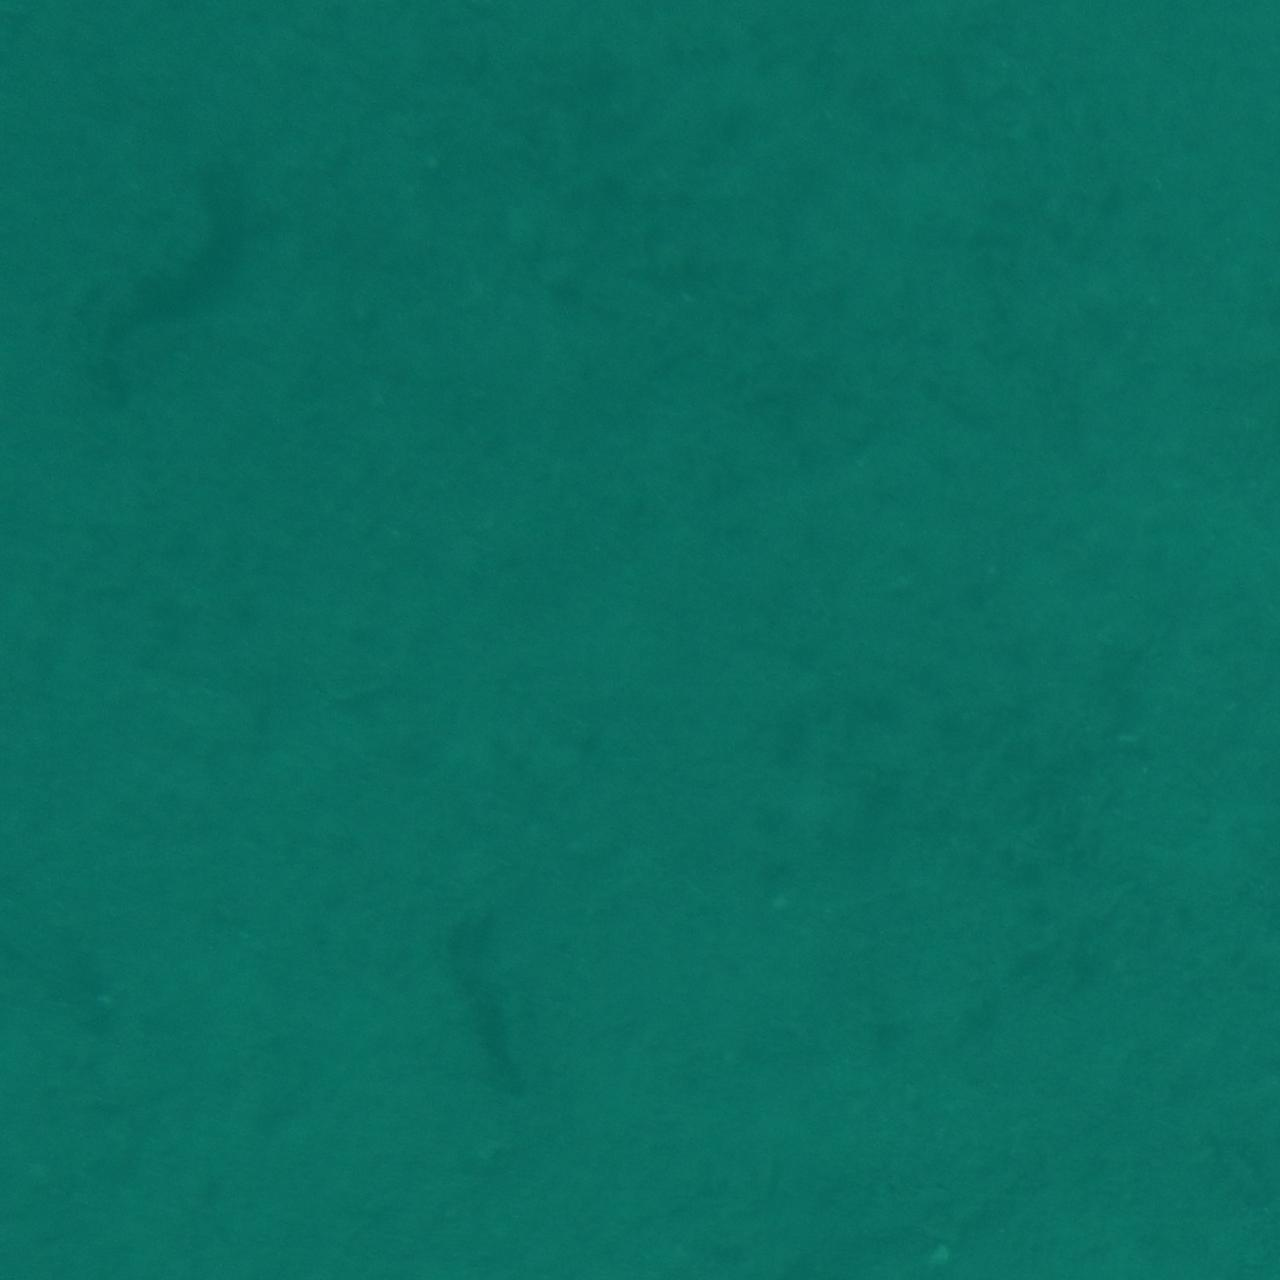Holothuria tubulosa: (67, 132, 293, 406), (421, 878, 553, 1126), (1141, 625, 1280, 788), (1152, 381, 1280, 523), (0, 0, 116, 110), (0, 1167, 47, 1280)
